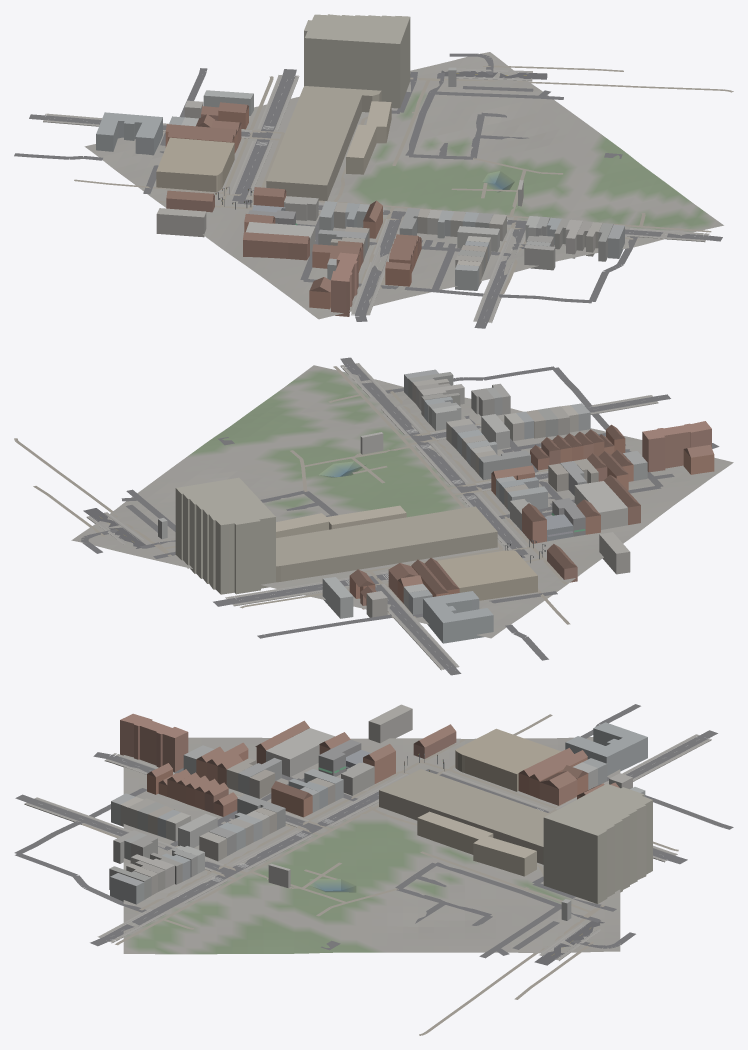
Rendered from tile_-8_4.glb.
3 renders of one model, top to bottom at view 1: azimuth 30°, elevation 25°; view 2: azimuth 150°, elevation 25°; view 3: azimuth 270°, elevation 25°, orthographic. The views are drawn at different scales.
Visible parts, largest first — view 1: buildings, terrain, roads, paths, sidewalks; view 2: buildings, terrain, roads, paths, sidewalks; view 3: buildings, terrain, roads, paths, sidewalks.
Part boxes in pixels (x1,y1,x2,y2): buildings: (96,14,624,316); terrain: (84,52,723,319); roads: (14,53,722,328); paths: (74,65,733,293); sidewalks: (43,68,709,322); buildings: (158,369,714,643); terrain: (71,365,733,638); roads: (81,357,719,675); paths: (14,366,570,624); sidewalks: (86,363,658,670); buildings: (109,704,652,920); terrain: (123,737,620,954); roads: (14,704,733,965); paths: (81,714,678,1035); sidewalks: (24,734,711,960).
Bounding box in the file's own units: 390 × 43.37 × 371.
